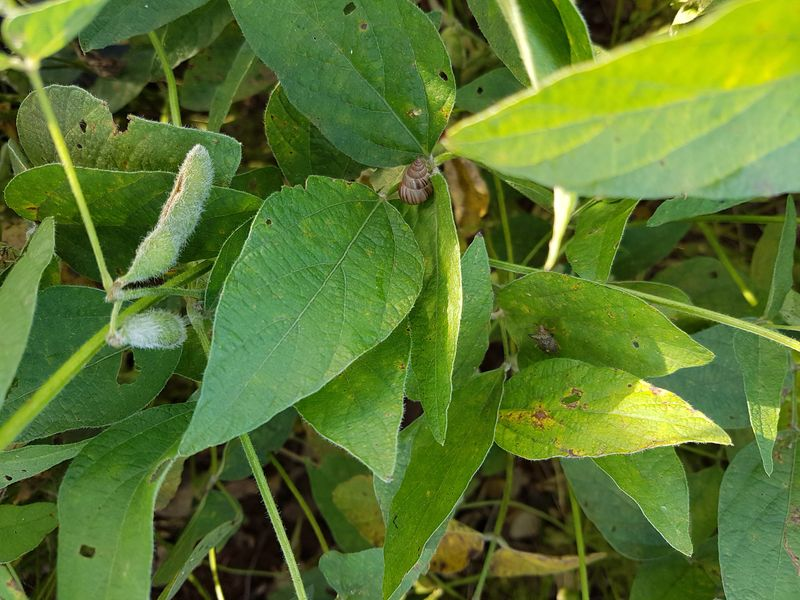Euschistus_heros_adulto: (521, 319, 568, 364)
Gastropoda: (388, 150, 444, 211)
